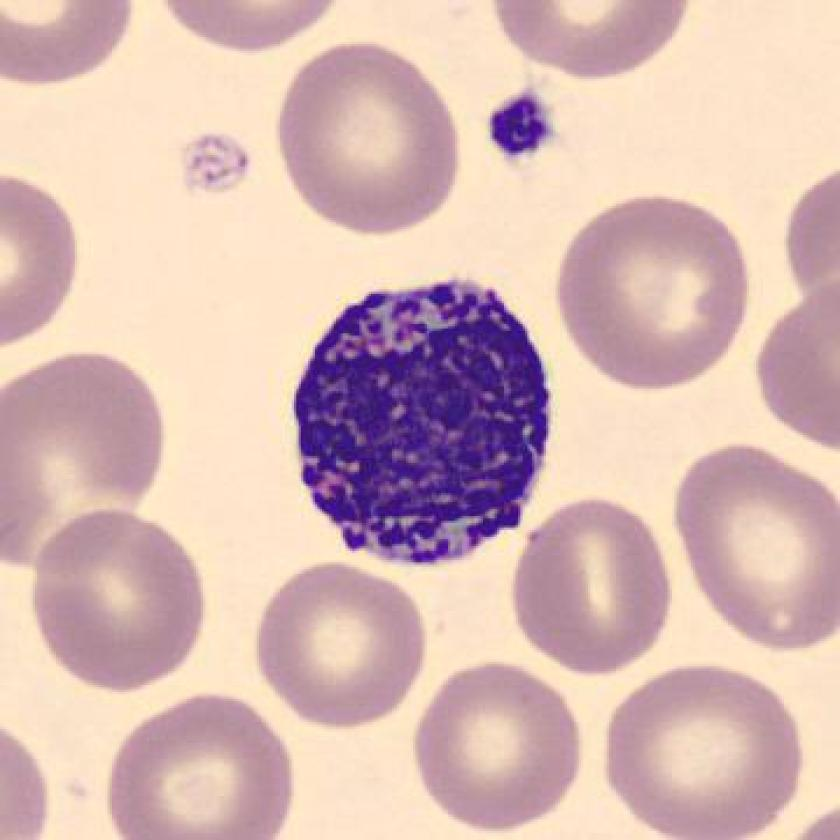basophil: (277, 274, 550, 573)
